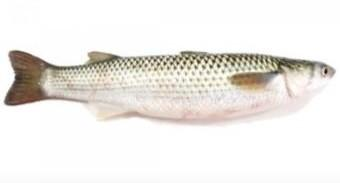fish: (3, 48, 337, 123)
